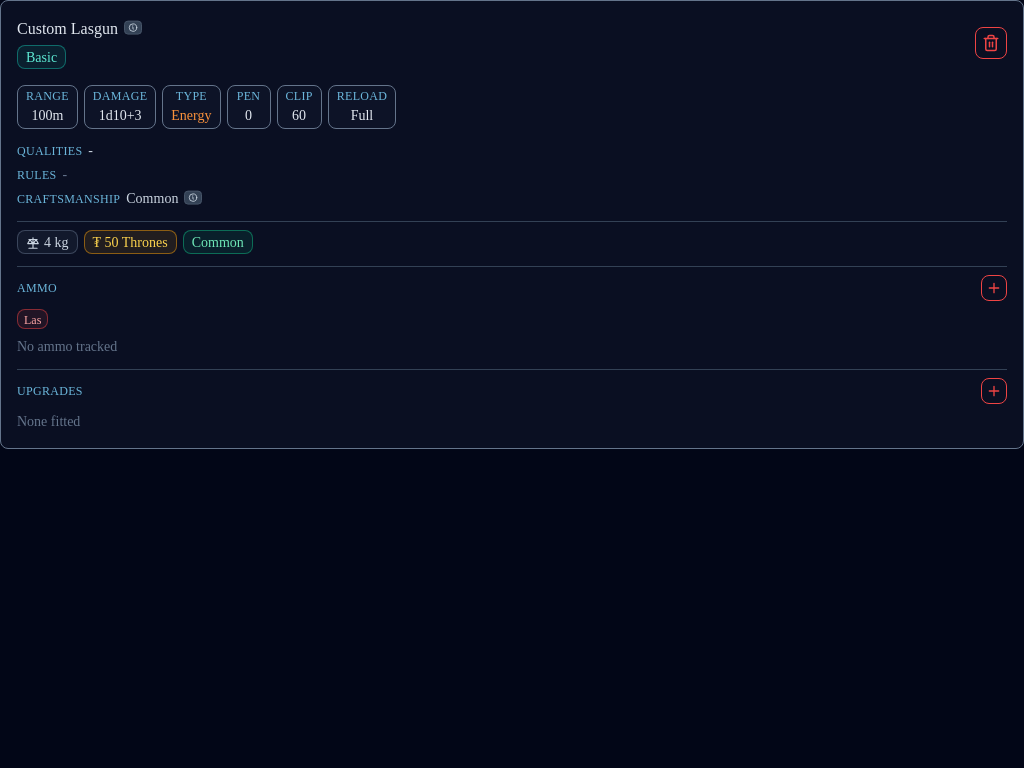
Test case: RangedCard craftsmanship › shows the craftsmanship description in an info modal
Step 1. Click the button named "Show information about Common Weapon" → {"x": 193, "y": 198}, box [184, 191, 202, 205]
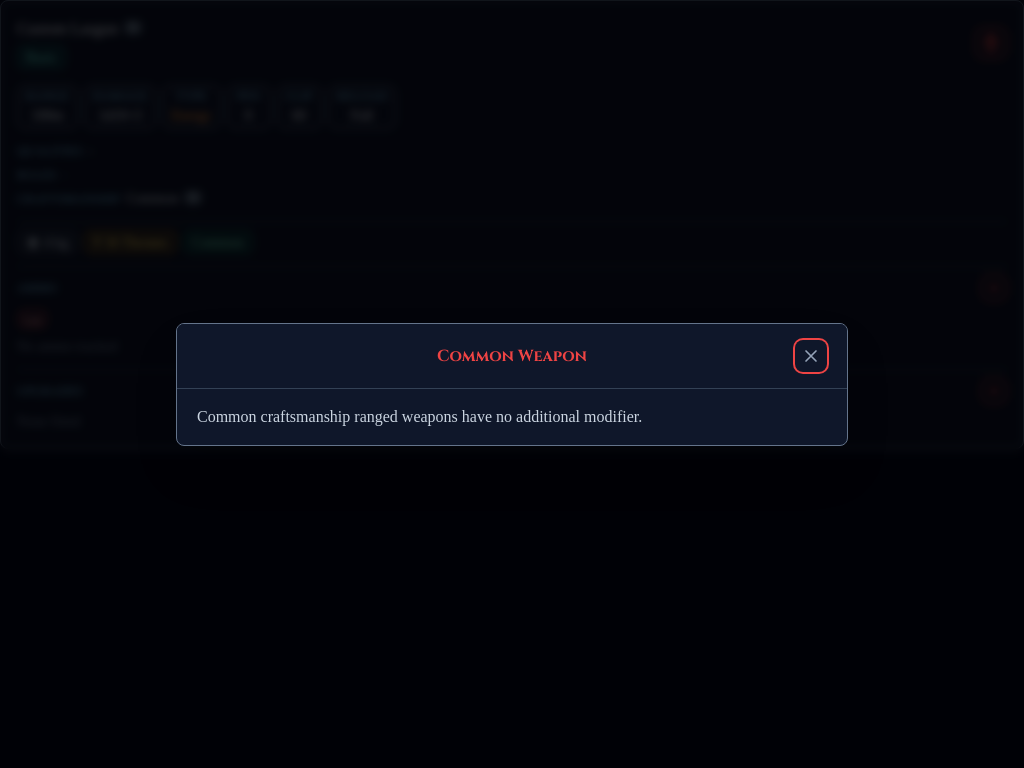
Check: the text "no additional modifier" is shown, box [197, 408, 642, 424]
